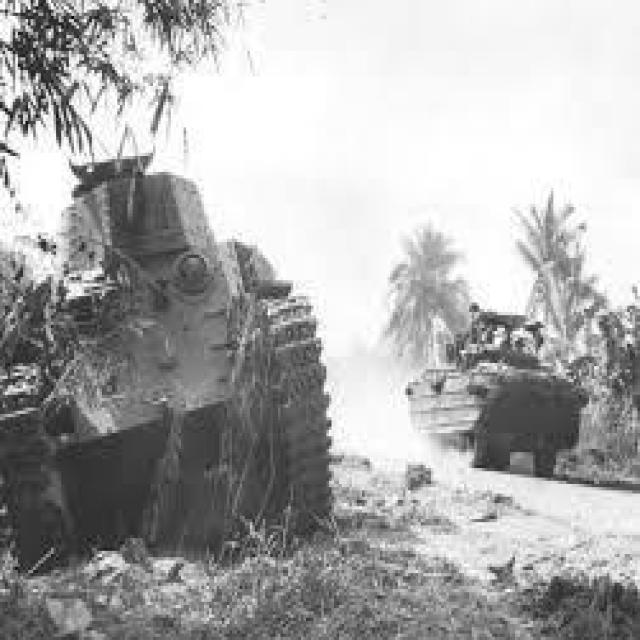Tanks: (12, 146, 336, 586), (407, 299, 575, 503)
